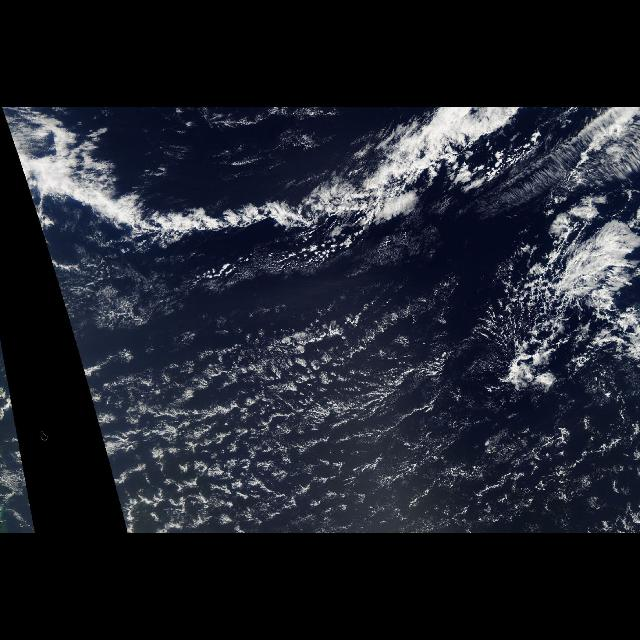Fish: (482, 202, 638, 394), (66, 164, 432, 240)
Sugar: (59, 288, 453, 524)
